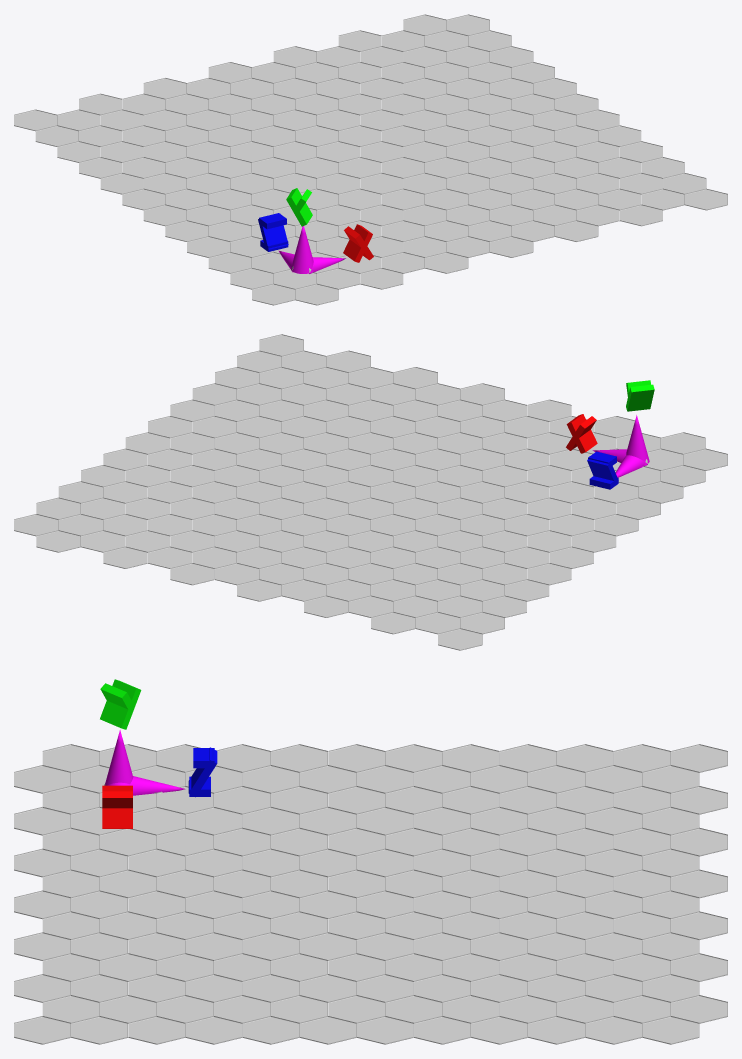
Rendered from hexatiles.FBX.
The picture shows the model from 3 angles, top to bottom: view 1: azimuth 30°, elevation 25°; view 2: azimuth 150°, elevation 25°; view 3: azimuth 270°, elevation 25°; orthographic projection. The views are drawn at different scales.
Parts seen in each view (by area): view 1: Tile01, Zindicator, Xindicator, Yindicator; view 2: Tile01, Zindicator, Xindicator, Yindicator; view 3: Tile01, Yindicator, Xindicator, Zindicator.
Boxes of the visible parts, x1,y1,x2,y2 form: Tile01: [14, 14, 727, 305]; Zindicator: [258, 213, 288, 251]; Xindicator: [343, 224, 373, 262]; Yindicator: [286, 188, 312, 226]; Tile01: [14, 334, 727, 650]; Zindicator: [587, 451, 618, 489]; Xindicator: [566, 414, 597, 453]; Yindicator: [626, 380, 654, 411]; Tile01: [14, 730, 727, 1044]; Yindicator: [100, 679, 141, 729]; Xindicator: [102, 785, 132, 828]; Zindicator: [188, 747, 217, 797].
Bounding box in the file's own units: 215 × 38.81 × 217.
